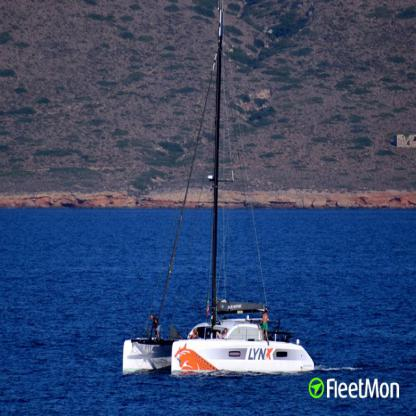Sails Boat: (122, 0, 315, 377)
